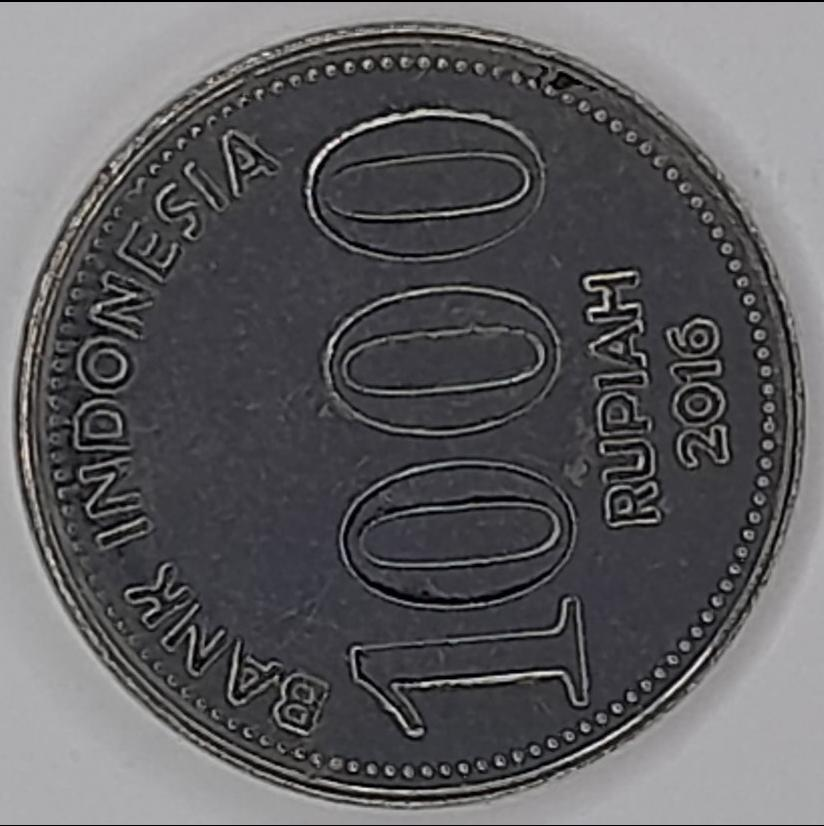coin_1000_e2016: (14, 16, 813, 826)
